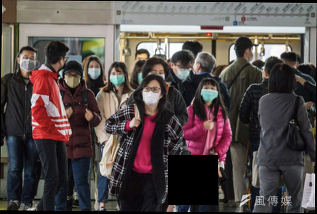with_mask: (141, 85, 163, 107), (20, 52, 39, 72), (200, 84, 220, 103), (175, 63, 194, 81), (63, 72, 83, 89), (109, 70, 127, 88), (146, 68, 166, 84), (87, 63, 103, 81), (136, 68, 146, 86)
